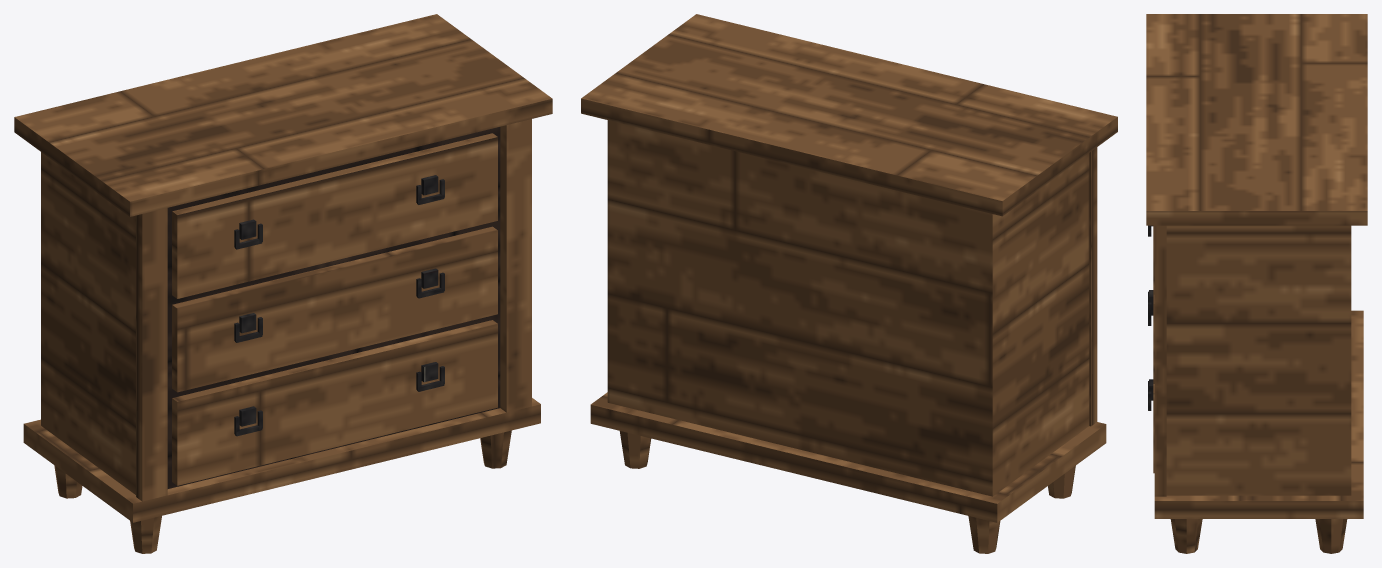
Rendered from Furn_Dresser_Oak.fbx.
3 renders of one model, left to right at view 1: azimuth 30°, elevation 25°; view 2: azimuth 150°, elevation 25°; view 3: azimuth 270°, elevation 25°, orthographic. The views are drawn at different scales.
Parts seen in each view (by area): view 1: Furn_Dresser_Oak; view 2: Furn_Dresser_Oak; view 3: Furn_Dresser_Oak.
Part boxes in pixels (x1=…): Furn_Dresser_Oak: x1=14, y1=14, x2=552, y2=553; Furn_Dresser_Oak: x1=581, y1=14, x2=1117, y2=553; Furn_Dresser_Oak: x1=1146, y1=14, x2=1367, y2=553.
Bounding box in the file's own units: 1.16 × 0.975 × 0.55.
